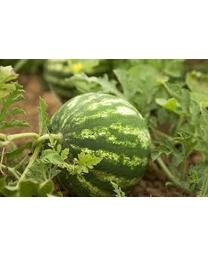watermelon: (46, 90, 149, 190)
